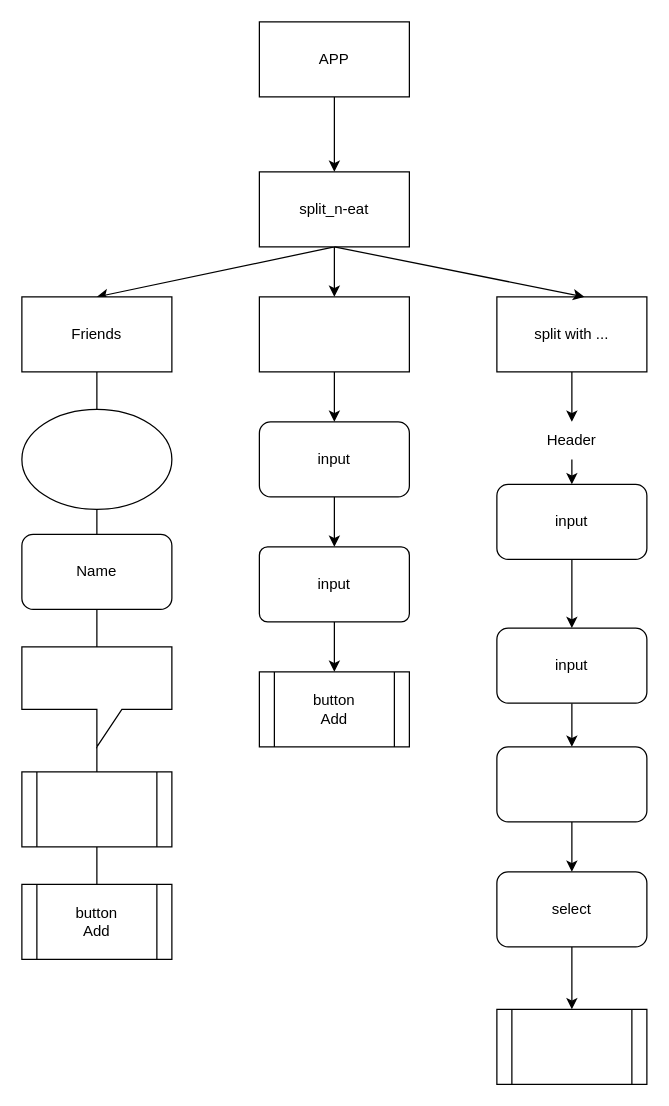
Image size: 669x1106. Some labels were removed from this diagram. Each missing label, with the centre of its shape:
"Add a friend" belongs at point 333,334.
"button select" belongs at point 96,809.
"button split bill" belongs at point 571,1046.
"display amount" belongs at point 571,784.
"img" belongs at point 96,458.
"message" belongs at point 96,696.
